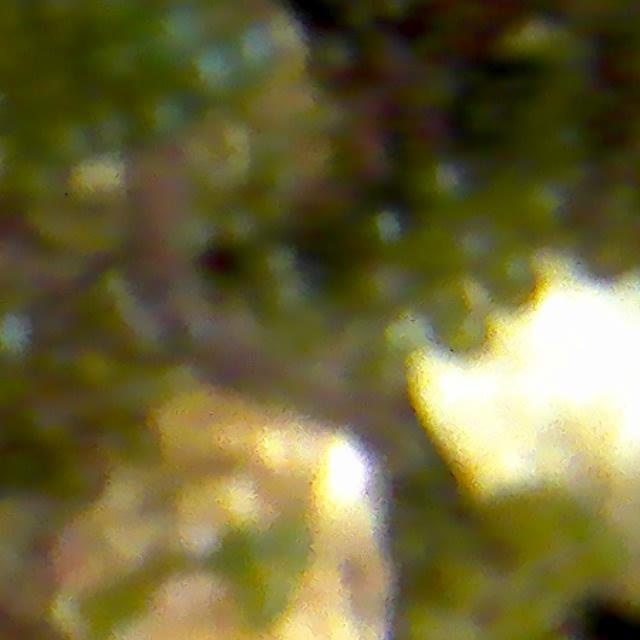SeaGrape: (146, 2, 212, 65), (483, 248, 540, 310), (135, 88, 194, 147), (189, 42, 245, 102), (87, 35, 143, 90)
